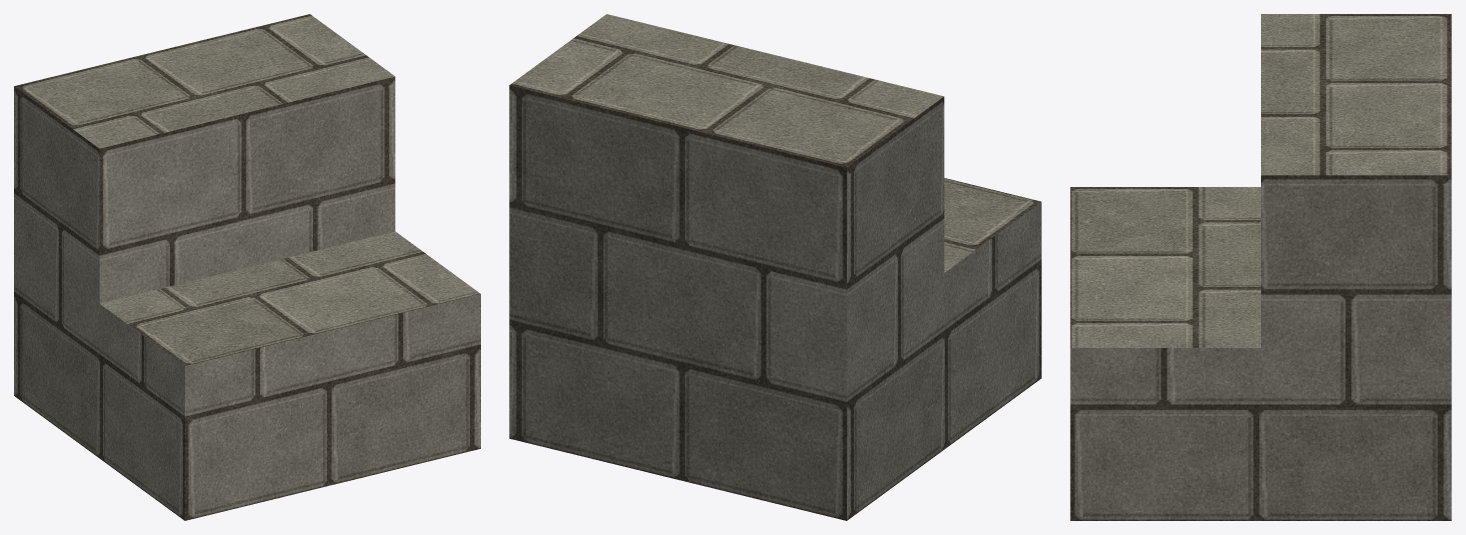
Rendered from stairs.glb.
3 renders of one model, left to right at view 1: azimuth 30°, elevation 25°; view 2: azimuth 150°, elevation 25°; view 3: azimuth 270°, elevation 25°, orthographic. The views are drawn at different scales.
Visible parts, largest first — view 1: stairs; view 2: stairs; view 3: stairs.
Part boxes in pixels (box(x1,y1,x2,y2)): stairs: box(14, 14, 480, 520); stairs: box(509, 14, 1041, 520); stairs: box(1070, 14, 1451, 520).
Size of the model in its own units: 1 by 1 by 1.
1 material, 1 textured.
